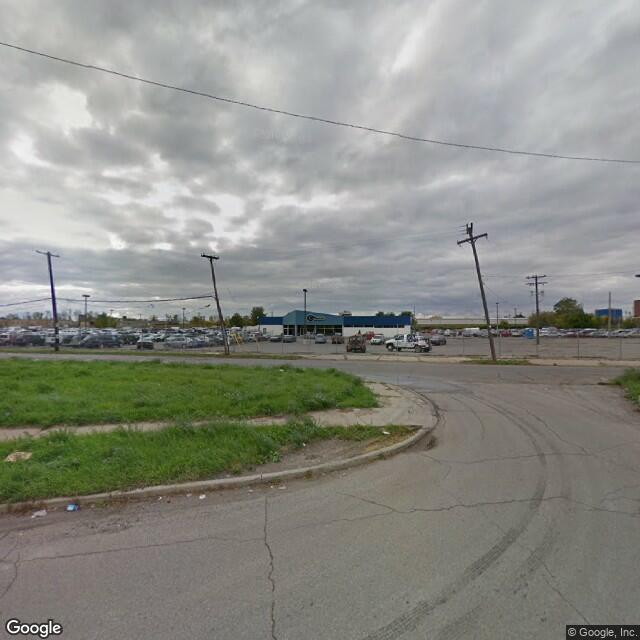litter: (4, 448, 32, 463), (28, 507, 49, 521), (66, 501, 77, 512), (379, 429, 392, 437), (276, 485, 287, 492), (199, 492, 206, 498), (156, 494, 164, 499), (246, 487, 254, 492), (301, 440, 306, 447)
